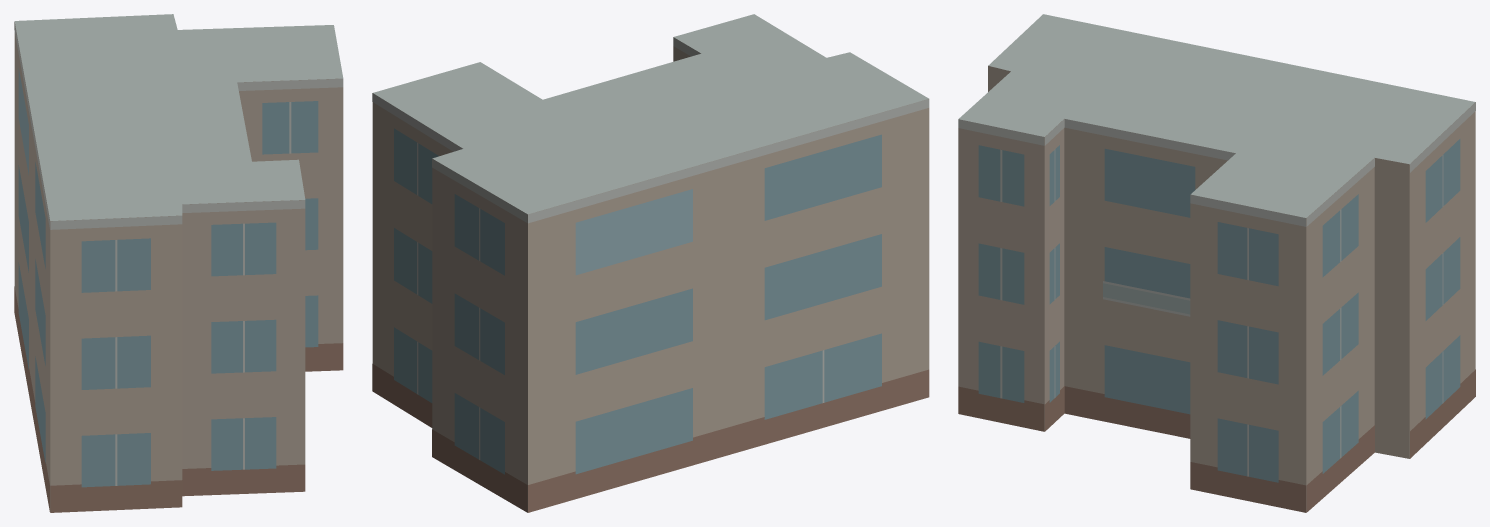
File: survey-upis-33037820.glb
3 views of the same model, side by side, from view 1: azimuth 30°, elevation 25°; view 2: azimuth 150°, elevation 25°; view 3: azimuth 270°, elevation 25° (orthographic). The views are drawn at different scales.
Parts seen in each view (by area): view 1: survey-upis-33037820.tmp; view 2: survey-upis-33037820.tmp; view 3: survey-upis-33037820.tmp.
Part boxes in pixels (box(x1,y1,x2,y2)): survey-upis-33037820.tmp: box(14, 14, 343, 512); survey-upis-33037820.tmp: box(372, 14, 929, 512); survey-upis-33037820.tmp: box(958, 14, 1475, 512).
Size of the model in its own units: 12.04 by 8.1 by 12.9.
